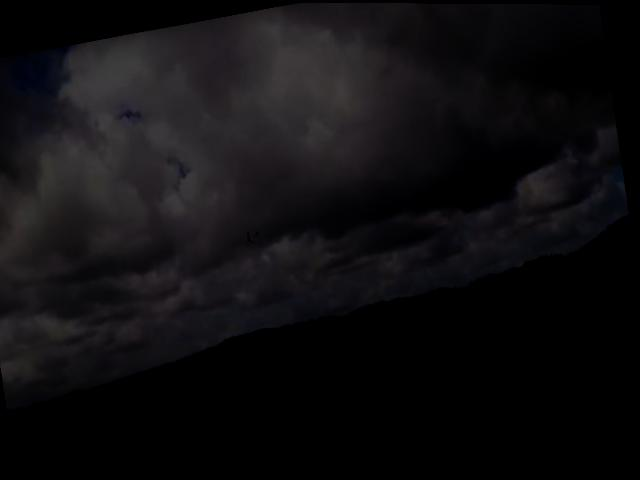iha: (245, 225, 263, 245)
